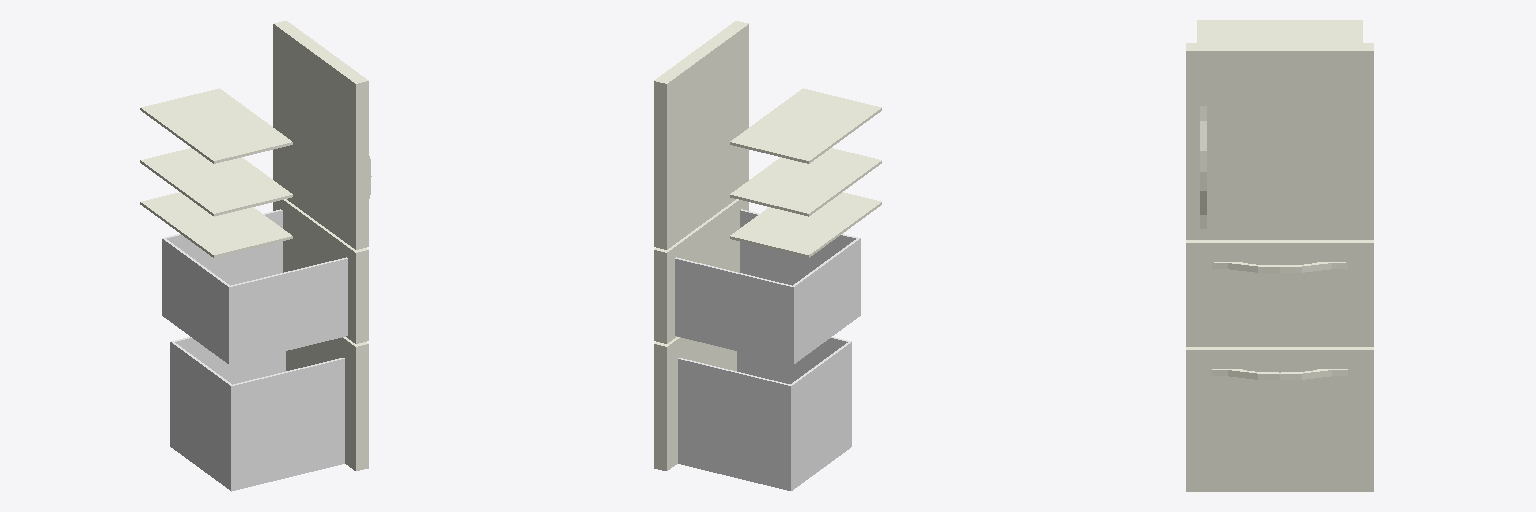
The robot description file, URDF, robot "room73b2-hitachi-fiesta-refrigerator":
<?xml version="1.0"?>
<robot name="room73b2-hitachi-fiesta-refrigerator"
       xmlns:xi="http://www.w3.org/2001/XInclude"
       xmlns:gazebo="http://playerstage.sourceforge.net/gazebo/xmlschema/#gz"
       xmlns:model="http://playerstage.sourceforge.net/gazebo/xmlschema/#model"
       xmlns:sensor="http://playerstage.sourceforge.net/gazebo/xmlschema/#sensor"
       xmlns:body="http://playerstage.sourceforge.net/gazebo/xmlschema/#body"
       xmlns:geom="http://playerstage.sourceforge.net/gazebo/xmlschema/#geom"
       xmlns:joint="http://playerstage.sourceforge.net/gazebo/xmlschema/#joint"
       xmlns:interface="http://playerstage.sourceforge.net/gazebo/xmlschema/#interface"
       xmlns:rendering="http://playerstage.sourceforge.net/gazebo/xmlschema/#rendering"
       xmlns:renderable="http://playerstage.sourceforge.net/gazebo/xmlschema/#renderable"
       xmlns:controller="http://playerstage.sourceforge.net/gazebo/xmlschema/#controller"
       xmlns:physics="http://playerstage.sourceforge.net/gazebo/xmlschema/#physics">
  <gazebo>
    <static>false</static>
  </gazebo>
  <link name="ROOT_link">
    <visual>
      <origin xyz="0 0 0" rpy="0 -0 0"/>
      <geometry>
        <mesh filename="model://room73b2-hitachi-fiesta-refrigerator/meshes/ROOT_link_mesh.dae" scale="1 1 1" />
      </geometry>
    </visual>
    <collision>
      <origin xyz="0 0 0" rpy="0 -0 0"/>
      <geometry>
        <mesh filename="model://room73b2-hitachi-fiesta-refrigerator/meshes/ROOT_link_mesh.dae" scale="1 1 1" />
      </geometry>
    </collision>
    <inertial>
      <mass value="0.001" />
      <origin xyz="0 0 0" rpy="0 -0 0"/>
      <inertia ixx="1e-09" ixy="0" ixz="0" iyy="1e-09" iyz="0" izz="1e-09"/>
    </inertial>
  </link>
  <gazebo reference="ROOT_link">
    <mu1>0.9</mu1>
    <mu2>0.9</mu2>
  </gazebo>
  <link name="ROOM73B2-HITACHI-FIESTA-REFRIGERATOR-BODYSET7_link">
    <visual>
      <origin xyz="0.3 0.245 0.85" rpy="0 -0 0"/>
      <geometry>
        <mesh filename="model://room73b2-hitachi-fiesta-refrigerator/meshes/ROOM73B2-HITACHI-FIESTA-REFRIGERATOR-BODYSET7_link_mesh.dae" scale="1 1 1" />
      </geometry>
    </visual>
    <collision>
      <origin xyz="0.3 0.245 0.85" rpy="0 -0 0"/>
      <geometry>
        <mesh filename="model://room73b2-hitachi-fiesta-refrigerator/meshes/ROOM73B2-HITACHI-FIESTA-REFRIGERATOR-BODYSET7_link_mesh.dae" scale="1 1 1" />
      </geometry>
    </collision>
    <inertial>
      <mass value="0.001" />
      <origin xyz="0 0 0" rpy="0 -0 0"/>
      <inertia ixx="1e-09" ixy="0" ixz="0" iyy="1e-09" iyz="0" izz="1e-09"/>
    </inertial>
  </link>
  <gazebo reference="ROOM73B2-HITACHI-FIESTA-REFRIGERATOR-BODYSET7_link">
    <mu1>0.9</mu1>
    <mu2>0.9</mu2>
  </gazebo>
  <link name="ROOM73B2-HITACHI-FIESTA-REFRIGERATOR-BODYSET6_link">
    <visual>
      <origin xyz="0.05 0 0.66" rpy="0 -0 0"/>
      <geometry>
        <mesh filename="model://room73b2-hitachi-fiesta-refrigerator/meshes/ROOM73B2-HITACHI-FIESTA-REFRIGERATOR-BODYSET6_link_mesh.dae" scale="1 1 1" />
      </geometry>
    </visual>
    <collision>
      <origin xyz="0.05 0 0.66" rpy="0 -0 0"/>
      <geometry>
        <mesh filename="model://room73b2-hitachi-fiesta-refrigerator/meshes/ROOM73B2-HITACHI-FIESTA-REFRIGERATOR-BODYSET6_link_mesh.dae" scale="1 1 1" />
      </geometry>
    </collision>
    <inertial>
      <mass value="0.001" />
      <origin xyz="0 0 0" rpy="0 -0 0"/>
      <inertia ixx="1e-09" ixy="0" ixz="0" iyy="1e-09" iyz="0" izz="1e-09"/>
    </inertial>
  </link>
  <gazebo reference="ROOM73B2-HITACHI-FIESTA-REFRIGERATOR-BODYSET6_link">
    <mu1>0.9</mu1>
    <mu2>0.9</mu2>
  </gazebo>
  <link name="ROOM73B2-HITACHI-FIESTA-REFRIGERATOR-BODYSET5_link">
    <visual>
      <origin xyz="0.06 0 0.24" rpy="0 -0 0"/>
      <geometry>
        <mesh filename="model://room73b2-hitachi-fiesta-refrigerator/meshes/ROOM73B2-HITACHI-FIESTA-REFRIGERATOR-BODYSET5_link_mesh.dae" scale="1 1 1" />
      </geometry>
    </visual>
    <collision>
      <origin xyz="0.06 0 0.24" rpy="0 -0 0"/>
      <geometry>
        <mesh filename="model://room73b2-hitachi-fiesta-refrigerator/meshes/ROOM73B2-HITACHI-FIESTA-REFRIGERATOR-BODYSET5_link_mesh.dae" scale="1 1 1" />
      </geometry>
    </collision>
    <inertial>
      <mass value="0.001" />
      <origin xyz="0 0 0" rpy="0 -0 0"/>
      <inertia ixx="1e-09" ixy="0" ixz="0" iyy="1e-09" iyz="0" izz="1e-09"/>
    </inertial>
  </link>
  <gazebo reference="ROOM73B2-HITACHI-FIESTA-REFRIGERATOR-BODYSET5_link">
    <mu1>0.9</mu1>
    <mu2>0.9</mu2>
  </gazebo>
  <link name="ROOM73B2-HITACHI-FIESTA-REFRIGERATOR-BODYSET4_link">
    <visual>
      <origin xyz="-0.095 0 1.275" rpy="0 -0 0"/>
      <geometry>
        <mesh filename="model://room73b2-hitachi-fiesta-refrigerator/meshes/ROOM73B2-HITACHI-FIESTA-REFRIGERATOR-BODYSET4_link_mesh.dae" scale="1 1 1" />
      </geometry>
    </visual>
    <collision>
      <origin xyz="-0.095 0 1.275" rpy="0 -0 0"/>
      <geometry>
        <mesh filename="model://room73b2-hitachi-fiesta-refrigerator/meshes/ROOM73B2-HITACHI-FIESTA-REFRIGERATOR-BODYSET4_link_mesh.dae" scale="1 1 1" />
      </geometry>
    </collision>
    <inertial>
      <mass value="0.001" />
      <origin xyz="0 0 0" rpy="0 -0 0"/>
      <inertia ixx="1e-09" ixy="0" ixz="0" iyy="1e-09" iyz="0" izz="1e-09"/>
    </inertial>
  </link>
  <gazebo reference="ROOM73B2-HITACHI-FIESTA-REFRIGERATOR-BODYSET4_link">
    <mu1>0.9</mu1>
    <mu2>0.9</mu2>
  </gazebo>
  <link name="ROOM73B2-HITACHI-FIESTA-REFRIGERATOR-BODYSET3_link">
    <visual>
      <origin xyz="-0.095 0 1.085" rpy="0 -0 0"/>
      <geometry>
        <mesh filename="model://room73b2-hitachi-fiesta-refrigerator/meshes/ROOM73B2-HITACHI-FIESTA-REFRIGERATOR-BODYSET3_link_mesh.dae" scale="1 1 1" />
      </geometry>
    </visual>
    <collision>
      <origin xyz="-0.095 0 1.085" rpy="0 -0 0"/>
      <geometry>
        <mesh filename="model://room73b2-hitachi-fiesta-refrigerator/meshes/ROOM73B2-HITACHI-FIESTA-REFRIGERATOR-BODYSET3_link_mesh.dae" scale="1 1 1" />
      </geometry>
    </collision>
    <inertial>
      <mass value="0.001" />
      <origin xyz="0 0 0" rpy="0 -0 0"/>
      <inertia ixx="1e-09" ixy="0" ixz="0" iyy="1e-09" iyz="0" izz="1e-09"/>
    </inertial>
  </link>
  <gazebo reference="ROOM73B2-HITACHI-FIESTA-REFRIGERATOR-BODYSET3_link">
    <mu1>0.9</mu1>
    <mu2>0.9</mu2>
  </gazebo>
  <link name="ROOM73B2-HITACHI-FIESTA-REFRIGERATOR-BODYSET2_link">
    <visual>
      <origin xyz="-0.095 0 0.935" rpy="0 -0 0"/>
      <geometry>
        <mesh filename="model://room73b2-hitachi-fiesta-refrigerator/meshes/ROOM73B2-HITACHI-FIESTA-REFRIGERATOR-BODYSET2_link_mesh.dae" scale="1 1 1" />
      </geometry>
    </visual>
    <collision>
      <origin xyz="-0.095 0 0.935" rpy="0 -0 0"/>
      <geometry>
        <mesh filename="model://room73b2-hitachi-fiesta-refrigerator/meshes/ROOM73B2-HITACHI-FIESTA-REFRIGERATOR-BODYSET2_link_mesh.dae" scale="1 1 1" />
      </geometry>
    </collision>
    <inertial>
      <mass value="0.001" />
      <origin xyz="0 0 0" rpy="0 -0 0"/>
      <inertia ixx="1e-09" ixy="0" ixz="0" iyy="1e-09" iyz="0" izz="1e-09"/>
    </inertial>
  </link>
  <gazebo reference="ROOM73B2-HITACHI-FIESTA-REFRIGERATOR-BODYSET2_link">
    <mu1>0.9</mu1>
    <mu2>0.9</mu2>
  </gazebo>
  <joint name="DOOR1" type="revolute">
    <parent link="ROOT_link"/>
    <child  link="ROOM73B2-HITACHI-FIESTA-REFRIGERATOR-BODYSET7_link"/>
    <origin xyz="0.3 0.245 0.85" rpy="0 -0 0 "/>
    <axis   xyz="0 0 1"/>
    <limit lower="0" upper="1.5708" effort="100" velocity="0.5" />
    <dynamics damping="0.2" friction="0" />
  </joint>
  <transmission type="pr2_mechanism_model/SimpleTransmission" name="DOOR1_trans" >
    <actuator name="DOOR1_motor" />
    <joint name="DOOR1" />
    <mechanicalReduction>1</mechanicalReduction>
  </transmission>
  <gazebo reference="DOOR1">
    <cfmDamping>0.4</cfmDamping>
  </gazebo>
  <joint name="DRAWER1" type="prismatic">
    <parent link="ROOT_link"/>
    <child  link="ROOM73B2-HITACHI-FIESTA-REFRIGERATOR-BODYSET6_link"/>
    <origin xyz="0.05 0 0.66" rpy="0 -0 0 "/>
    <axis   xyz="1 0 0"/>
    <limit lower="0" upper="0.55" effort="100" velocity="0.01" />
    <dynamics damping="0.2" friction="0" />
  </joint>
  <transmission type="pr2_mechanism_model/SimpleTransmission" name="DRAWER1_trans" >
    <actuator name="DRAWER1_motor" />
    <joint name="DRAWER1" />
    <mechanicalReduction>1</mechanicalReduction>
  </transmission>
  <gazebo reference="DRAWER1">
    <cfmDamping>0.4</cfmDamping>
  </gazebo>
  <joint name="DRAWER2" type="prismatic">
    <parent link="ROOT_link"/>
    <child  link="ROOM73B2-HITACHI-FIESTA-REFRIGERATOR-BODYSET5_link"/>
    <origin xyz="0.06 0 0.24" rpy="0 -0 0 "/>
    <axis   xyz="1 0 0"/>
    <limit lower="0" upper="0.55" effort="100" velocity="0.01" />
    <dynamics damping="0.2" friction="0" />
  </joint>
  <transmission type="pr2_mechanism_model/SimpleTransmission" name="DRAWER2_trans" >
    <actuator name="DRAWER2_motor" />
    <joint name="DRAWER2" />
    <mechanicalReduction>1</mechanicalReduction>
  </transmission>
  <gazebo reference="DRAWER2">
    <cfmDamping>0.4</cfmDamping>
  </gazebo>
  <joint name="SHELF1" type="prismatic">
    <parent link="ROOT_link"/>
    <child  link="ROOM73B2-HITACHI-FIESTA-REFRIGERATOR-BODYSET4_link"/>
    <origin xyz="-0.095 0 1.275" rpy="0 -0 0 "/>
    <axis   xyz="1 0 0"/>
    <limit lower="0" upper="0.3" effort="100" velocity="0.01" />
    <dynamics damping="0.2" friction="0" />
  </joint>
  <transmission type="pr2_mechanism_model/SimpleTransmission" name="SHELF1_trans" >
    <actuator name="SHELF1_motor" />
    <joint name="SHELF1" />
    <mechanicalReduction>1</mechanicalReduction>
  </transmission>
  <gazebo reference="SHELF1">
    <cfmDamping>0.4</cfmDamping>
  </gazebo>
  <joint name="SHELF2" type="prismatic">
    <parent link="ROOT_link"/>
    <child  link="ROOM73B2-HITACHI-FIESTA-REFRIGERATOR-BODYSET3_link"/>
    <origin xyz="-0.095 0 1.085" rpy="0 -0 0 "/>
    <axis   xyz="1 0 0"/>
    <limit lower="0" upper="0.3" effort="100" velocity="0.01" />
    <dynamics damping="0.2" friction="0" />
  </joint>
  <transmission type="pr2_mechanism_model/SimpleTransmission" name="SHELF2_trans" >
    <actuator name="SHELF2_motor" />
    <joint name="SHELF2" />
    <mechanicalReduction>1</mechanicalReduction>
  </transmission>
  <gazebo reference="SHELF2">
    <cfmDamping>0.4</cfmDamping>
  </gazebo>
  <joint name="SHELF3" type="prismatic">
    <parent link="ROOT_link"/>
    <child  link="ROOM73B2-HITACHI-FIESTA-REFRIGERATOR-BODYSET2_link"/>
    <origin xyz="-0.095 0 0.935" rpy="0 -0 0 "/>
    <axis   xyz="1 0 0"/>
    <limit lower="0" upper="0.3" effort="100" velocity="0.01" />
    <dynamics damping="0.2" friction="0" />
  </joint>
  <transmission type="pr2_mechanism_model/SimpleTransmission" name="SHELF3_trans" >
    <actuator name="SHELF3_motor" />
    <joint name="SHELF3" />
    <mechanicalReduction>1</mechanicalReduction>
  </transmission>
  <gazebo reference="SHELF3">
    <cfmDamping>0.4</cfmDamping>
  </gazebo>
</robot>

--- Facts derived from the render (not from the file) ---
3 views of the same robot in one strip: view 1: azimuth 30°, elevation 25°; view 2: azimuth 150°, elevation 25°; view 3: azimuth 270°, elevation 25° (orthographic).
Model room73b2-hitachi-fiesta-refrigerator with 7 links and 6 joints (1 revolute, 5 prismatic), rooted at ROOT_link, posed all joints at 0.
Visible links, largest first — view 1: ROOM73B2-HITACHI-FIESTA-REFRIGERATOR-BODYSET5_link, ROOM73B2-HITACHI-FIESTA-REFRIGERATOR-BODYSET6_link, ROOM73B2-HITACHI-FIESTA-REFRIGERATOR-BODYSET7_link, ROOM73B2-HITACHI-FIESTA-REFRIGERATOR-BODYSET4_link, ROOM73B2-HITACHI-FIESTA-REFRIGERATOR-BODYSET3_link, ROOM73B2-HITACHI-FIESTA-REFRIGERATOR-BODYSET2_link; view 2: ROOM73B2-HITACHI-FIESTA-REFRIGERATOR-BODYSET5_link, ROOM73B2-HITACHI-FIESTA-REFRIGERATOR-BODYSET6_link, ROOM73B2-HITACHI-FIESTA-REFRIGERATOR-BODYSET7_link, ROOM73B2-HITACHI-FIESTA-REFRIGERATOR-BODYSET4_link, ROOM73B2-HITACHI-FIESTA-REFRIGERATOR-BODYSET3_link, ROOM73B2-HITACHI-FIESTA-REFRIGERATOR-BODYSET2_link; view 3: ROOM73B2-HITACHI-FIESTA-REFRIGERATOR-BODYSET7_link, ROOM73B2-HITACHI-FIESTA-REFRIGERATOR-BODYSET5_link, ROOM73B2-HITACHI-FIESTA-REFRIGERATOR-BODYSET6_link, ROOM73B2-HITACHI-FIESTA-REFRIGERATOR-BODYSET4_link.
Boxes of the visible links, x1=… form: ROOM73B2-HITACHI-FIESTA-REFRIGERATOR-BODYSET5_link: x1=170, y1=337, x2=368, y2=491; ROOM73B2-HITACHI-FIESTA-REFRIGERATOR-BODYSET6_link: x1=162, y1=199, x2=368, y2=364; ROOM73B2-HITACHI-FIESTA-REFRIGERATOR-BODYSET7_link: x1=273, y1=21, x2=371, y2=249; ROOM73B2-HITACHI-FIESTA-REFRIGERATOR-BODYSET4_link: x1=140, y1=88, x2=292, y2=163; ROOM73B2-HITACHI-FIESTA-REFRIGERATOR-BODYSET3_link: x1=140, y1=148, x2=292, y2=216; ROOM73B2-HITACHI-FIESTA-REFRIGERATOR-BODYSET2_link: x1=140, y1=192, x2=292, y2=257; ROOM73B2-HITACHI-FIESTA-REFRIGERATOR-BODYSET5_link: x1=654, y1=337, x2=851, y2=490; ROOM73B2-HITACHI-FIESTA-REFRIGERATOR-BODYSET6_link: x1=654, y1=199, x2=860, y2=364; ROOM73B2-HITACHI-FIESTA-REFRIGERATOR-BODYSET7_link: x1=654, y1=21, x2=748, y2=249; ROOM73B2-HITACHI-FIESTA-REFRIGERATOR-BODYSET4_link: x1=730, y1=88, x2=881, y2=163; ROOM73B2-HITACHI-FIESTA-REFRIGERATOR-BODYSET3_link: x1=730, y1=148, x2=881, y2=216; ROOM73B2-HITACHI-FIESTA-REFRIGERATOR-BODYSET2_link: x1=730, y1=192, x2=881, y2=257; ROOM73B2-HITACHI-FIESTA-REFRIGERATOR-BODYSET7_link: x1=1186, y1=43, x2=1373, y2=239; ROOM73B2-HITACHI-FIESTA-REFRIGERATOR-BODYSET5_link: x1=1186, y1=347, x2=1373, y2=491; ROOM73B2-HITACHI-FIESTA-REFRIGERATOR-BODYSET6_link: x1=1186, y1=240, x2=1373, y2=346; ROOM73B2-HITACHI-FIESTA-REFRIGERATOR-BODYSET4_link: x1=1197, y1=20, x2=1362, y2=42.
Bounding box of the posed robot: 0.6072 × 0.54 × 1.4 m (x, y, z).
6 mesh visuals loaded from 7 distinct referenced files (6 Collada DAE); not drawn: 1 (reference not matched to a file when rendering).
